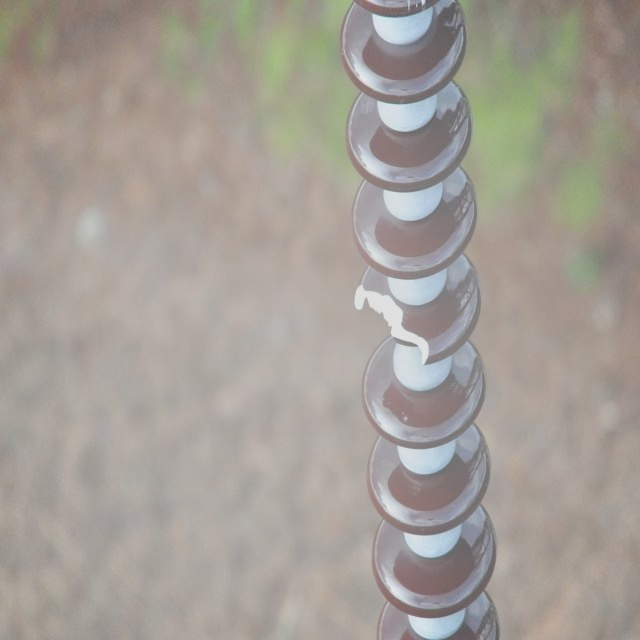broken: (353, 284, 432, 368)
insulator: (338, 0, 503, 637)
